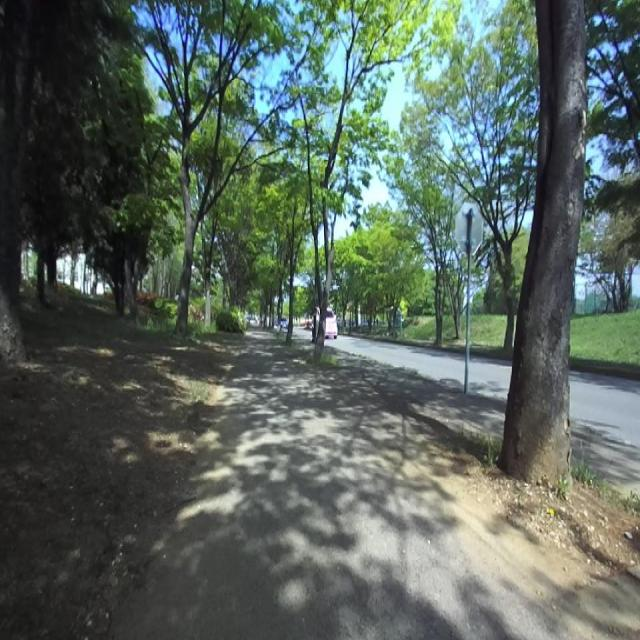sidewalk: (118, 330, 640, 638)
